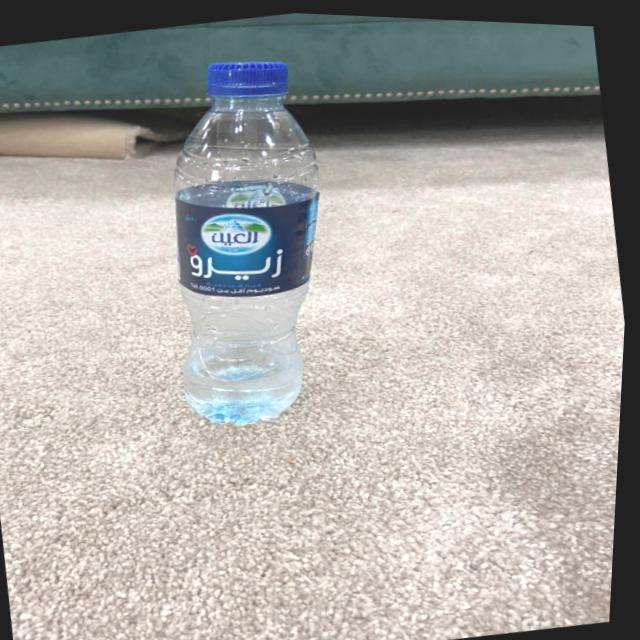anorganik: (99, 8, 347, 437)
